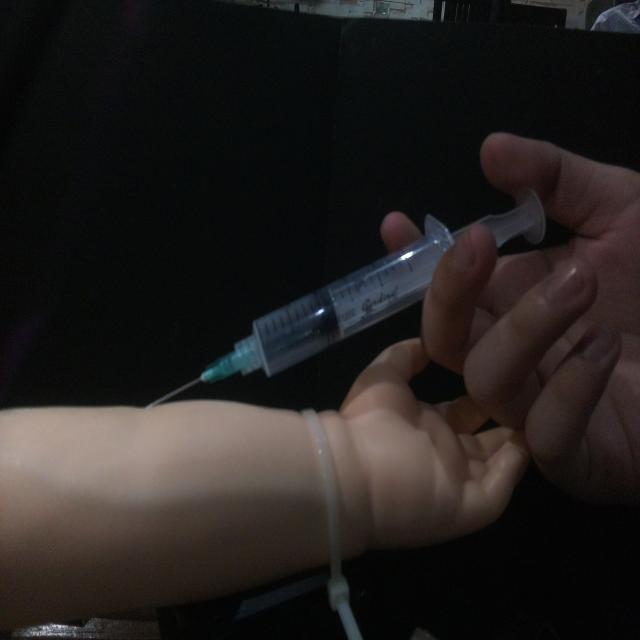20deg: (142, 184, 549, 410)
